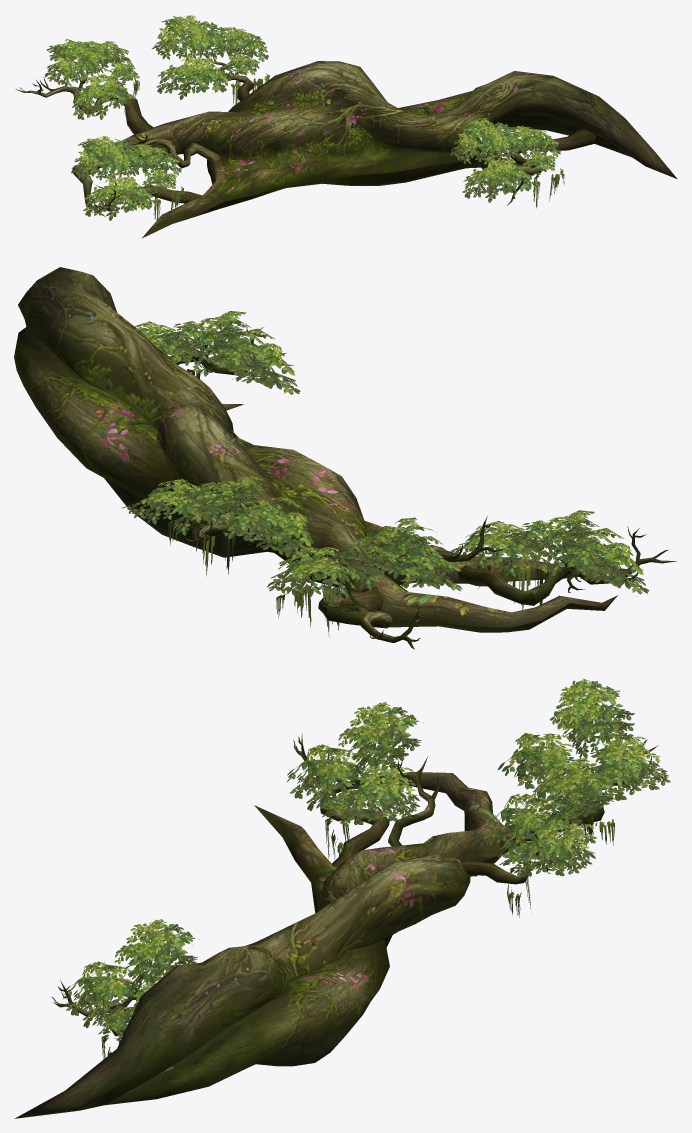
File: tree_009.FBX
3 renders of one model, top to bottom at view 1: azimuth 30°, elevation 25°; view 2: azimuth 150°, elevation 25°; view 3: azimuth 270°, elevation 25°, orthographic. The views are drawn at different scales.
Visible parts, largest first — view 1: trunk_009, leaves_009; view 2: trunk_009, leaves_009; view 3: trunk_009, leaves_009.
Boxes of the visible parts, box(x1,y1,x2,y2) form: trunk_009: box(15, 47, 677, 238); leaves_009: box(45, 15, 564, 220); trunk_009: box(14, 267, 676, 649); leaves_009: box(122, 311, 648, 637); trunk_009: box(14, 731, 660, 1118); leaves_009: box(63, 678, 670, 1059).
Bounding box in the file's own units: 1809 × 467 × 1444.
2 materials, 2 textured.
